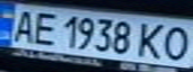1: (54, 14, 81, 50)
3: (90, 16, 115, 54)
8: (112, 18, 136, 56)
9: (75, 15, 96, 52)
A: (6, 7, 39, 43)
E: (27, 9, 60, 46)
K: (133, 20, 169, 60)
O: (157, 24, 193, 62)
